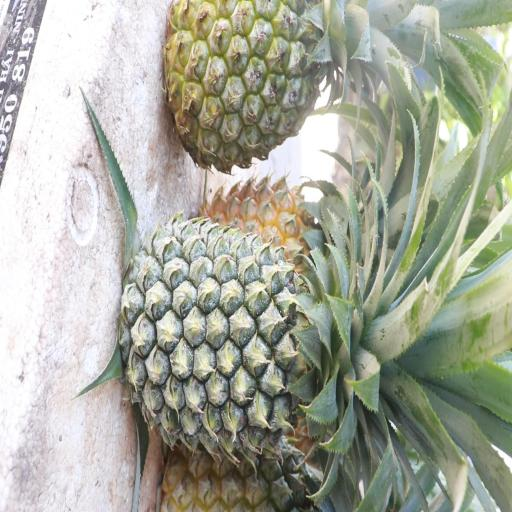------------------------------: (166, 0, 341, 159)
